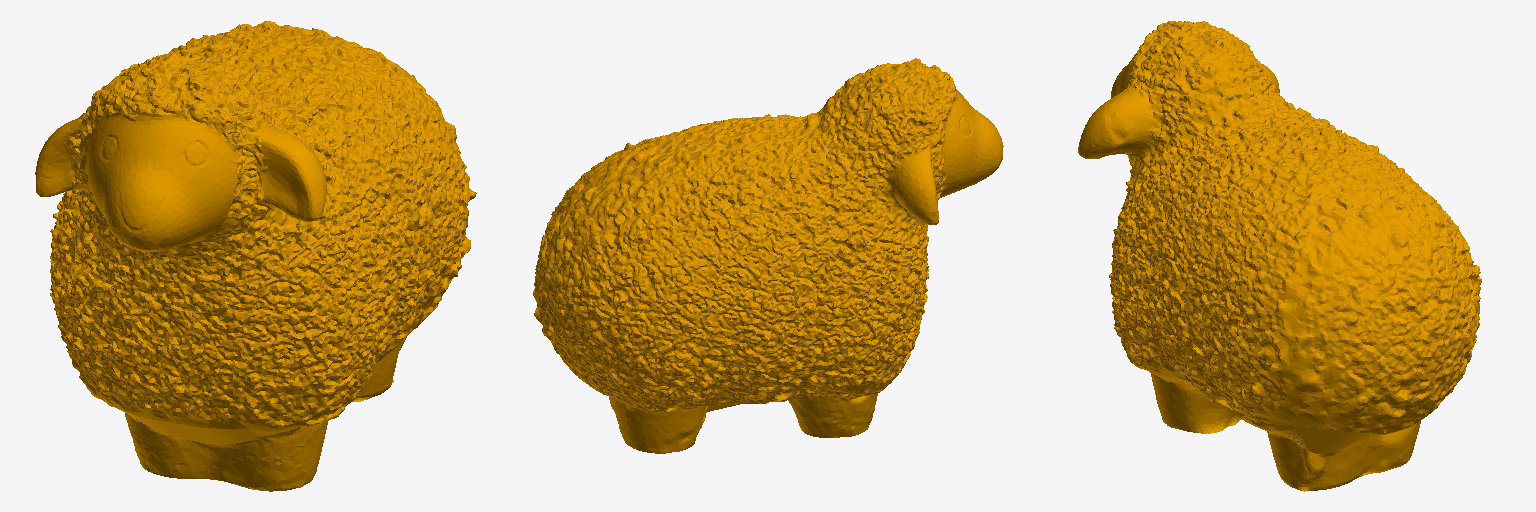
robot.urdf — 208741:
<?xml version='1.0'?>

<robot name="208741">
    <static>false</static>
    <link name="link">
        <inertial>
            <mass value="0.07509378311404283"/>
            <inertia ixx="8.504092837773378e-05" ixy="-2.0009672941788886e-05" ixz="1.093025803058154e-05"
                     iyy="9.378535110360855e-05" iyz="7.560397634360608e-06" izz="9.59292288448083e-05"/>
        </inertial>
        <collision name="collision">
            <geometry>
                <mesh filename="package://miscnet/train/208741/collision_model_vhacd.obj"/>
            </geometry>
        </collision>
        <visual name="visual">
            <geometry>
                <mesh filename="package://miscnet/train/208741/visual_model.obj"/>
            </geometry>
        </visual>
    </link>
</robot>

--- Render facts (derived) ---
Views: 3 orthographic renders of the robot side by side, from view 1: azimuth 30°, elevation 25°; view 2: azimuth 150°, elevation 25°; view 3: azimuth 270°, elevation 25°.
Robot: 208741 — 1 links, 0 joints (none); root link link; default pose: all joints at 0.
Visible links, largest first — view 1: link; view 2: link; view 3: link.
Link boxes in pixels (<box>): link: <box>35,21,476,491</box>; link: <box>533,58,1003,453</box>; link: <box>1078,21,1481,491</box>.
Size in the robot's own frame: 0.121 by 0.1168 by 0.1115 metres.
1 mesh visuals loaded from 1 distinct referenced files (1 OBJ).
